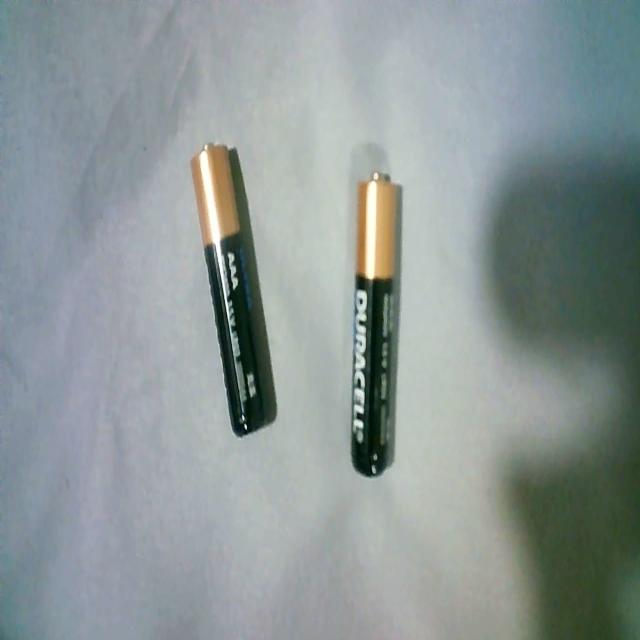AAA: (186, 129, 275, 442), (348, 163, 404, 483)
